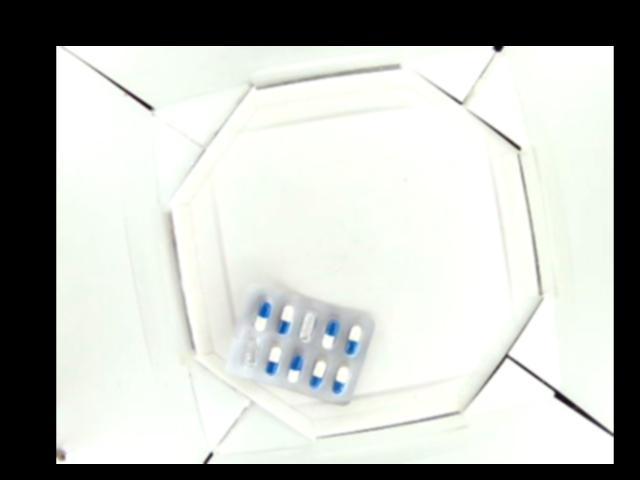Medicine: (224, 276, 374, 403)
